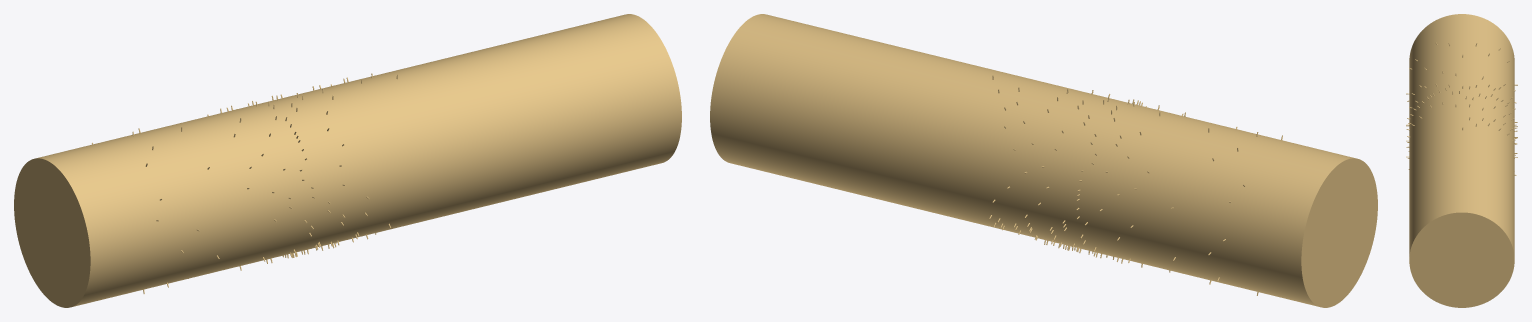
The model's file is Canon-in-D.glb.
The picture shows the model from 3 angles, left to right: view 1: azimuth 30°, elevation 25°; view 2: azimuth 150°, elevation 25°; view 3: azimuth 270°, elevation 25°; orthographic projection. The views are drawn at different scales.
Visible parts, largest first — view 1: cylinder_body; view 2: cylinder_body; view 3: cylinder_body.
Boxes of the visible parts, x1=… form: cylinder_body: x1=14, y1=14, x2=681, y2=307; cylinder_body: x1=710, y1=14, x2=1377, y2=307; cylinder_body: x1=1409, y1=14, x2=1514, y2=307.
Bounding box in the file's own units: 0.214 × 0.051 × 0.051.
